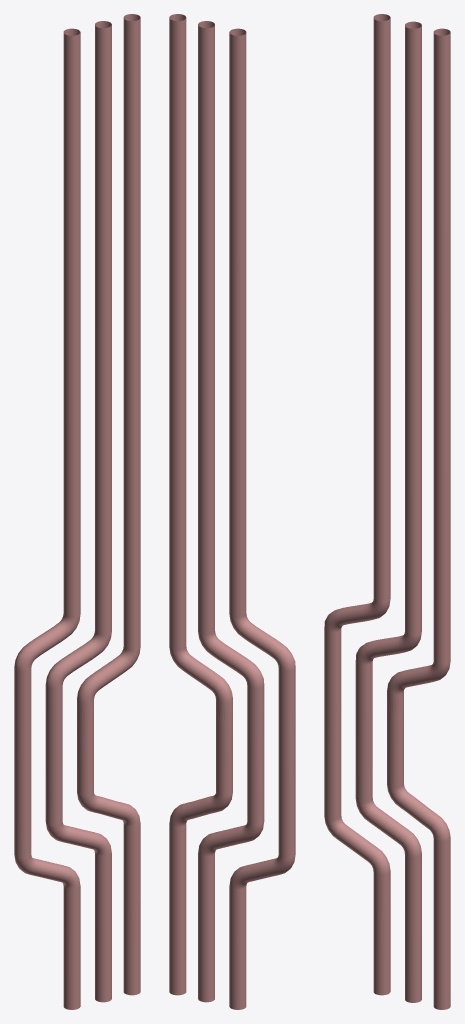
File: Pipe_Vertical_Thin_3.fbx
3 views of the same model, side by side, from view 1: azimuth 30°, elevation 25°; view 2: azimuth 150°, elevation 25°; view 3: azimuth 330°, elevation 25° (orthographic).
Parts seen in each view (by area): view 1: Pipe_Vertical_Thin_3; view 2: Pipe_Vertical_Thin_3; view 3: Pipe_Vertical_Thin_3.
Part boxes in pixels (<box>): Pipe_Vertical_Thin_3: <box>14,14,140,1009</box>; Pipe_Vertical_Thin_3: <box>169,14,295,1009</box>; Pipe_Vertical_Thin_3: <box>324,14,450,1009</box>.
Size of the model in its own units: 41.25 by 309 by 4.93.
